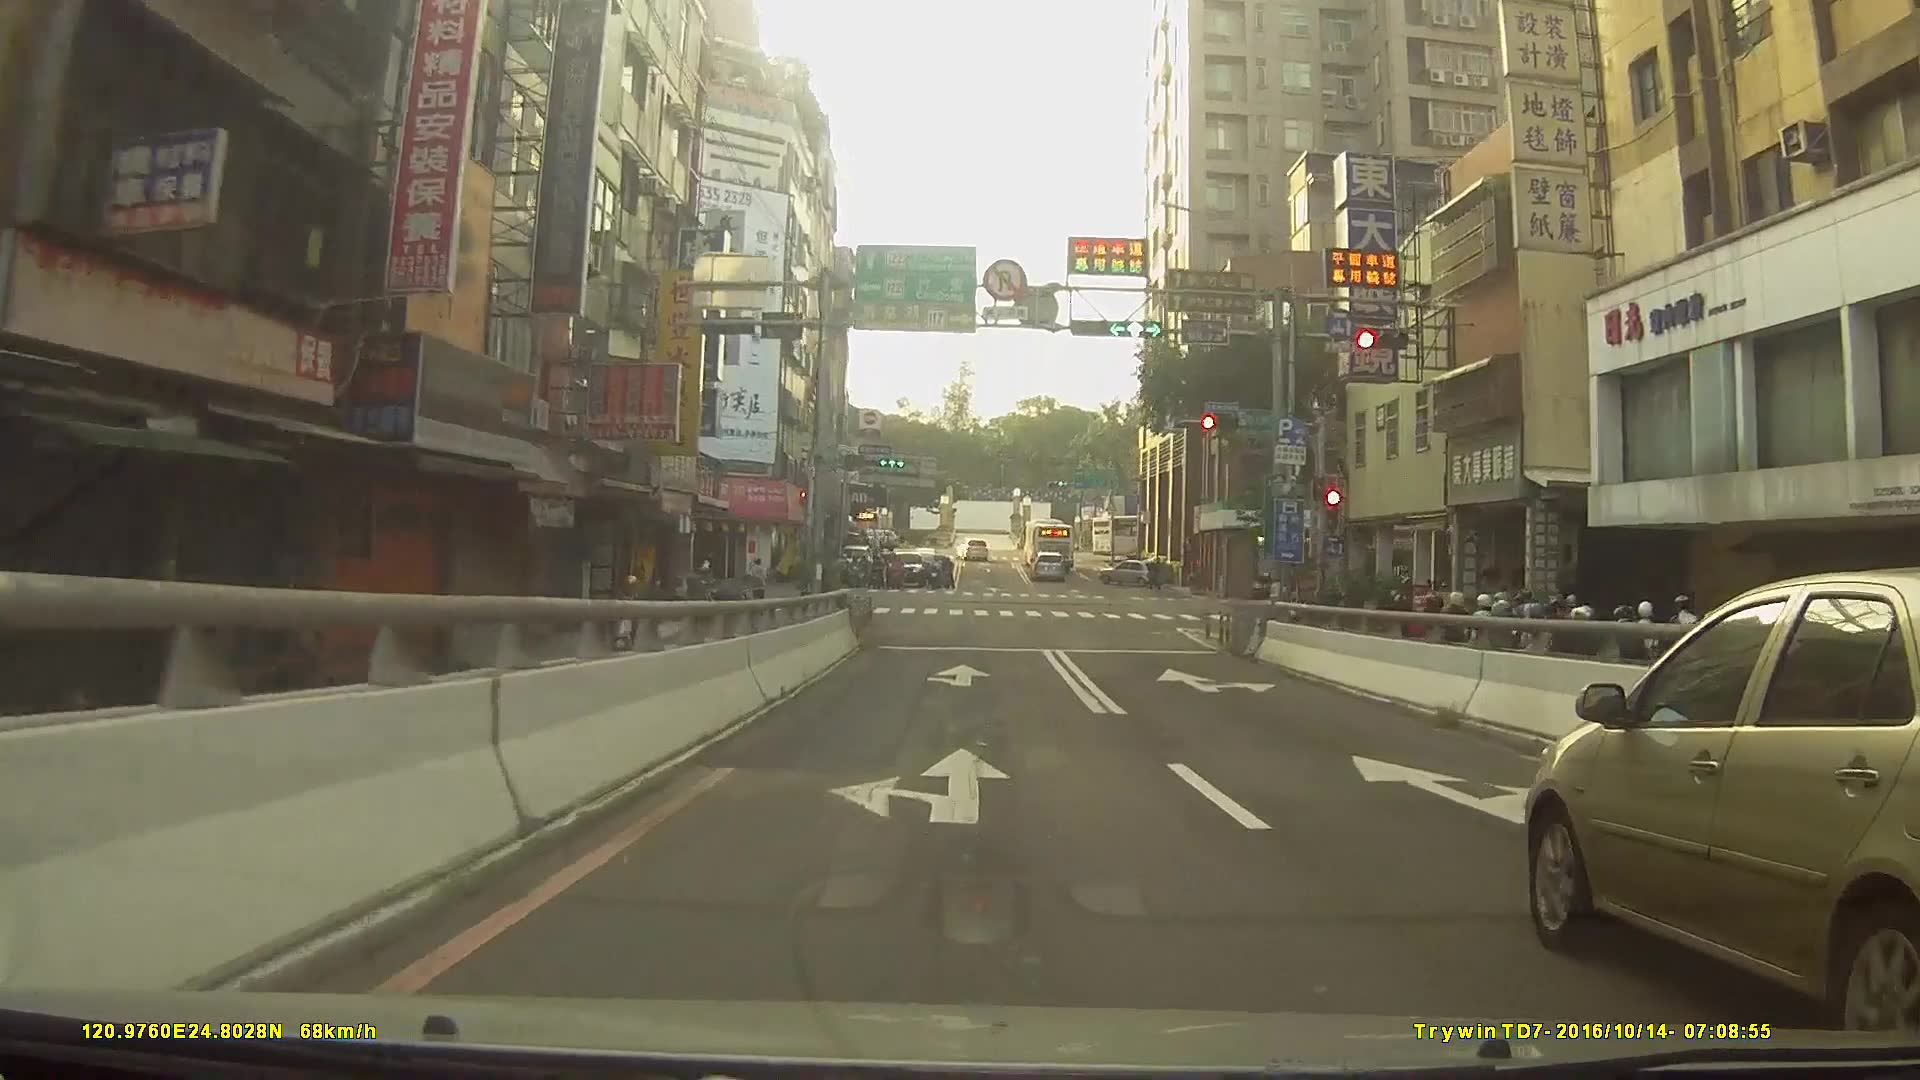rider: (611, 573, 653, 656)
vehicle: (1525, 566, 1920, 1046), (1090, 514, 1172, 561), (1025, 518, 1073, 566), (1097, 559, 1170, 591), (884, 552, 927, 588), (1031, 549, 1067, 581), (857, 525, 902, 548), (952, 536, 987, 562)
